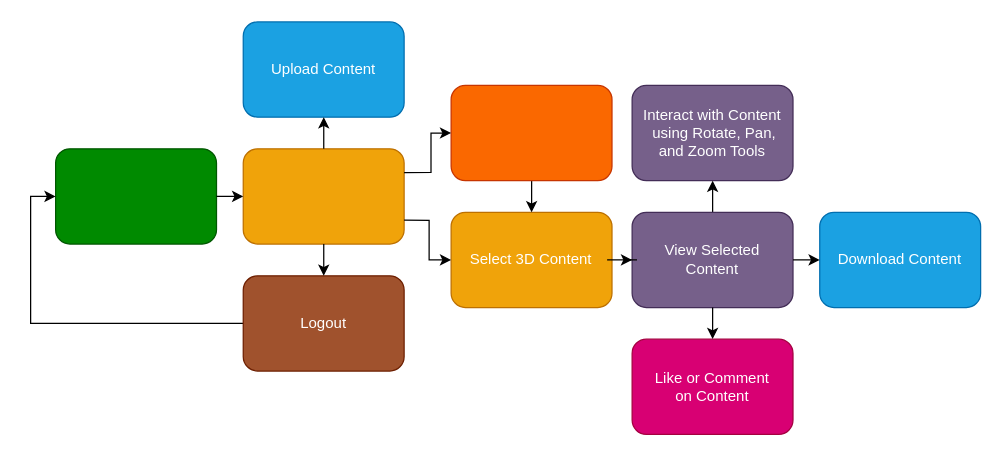
The diagram is 1003 pixels wide and 456 high, and some of its shapes have lost their labels. Each missing label, with the centre of its shape:
"Dashboard of Public 3D Content" goes at point (323, 196).
"Login/Register" goes at point (135, 196).
"View Personal Public and Private Content" goes at point (531, 132).
